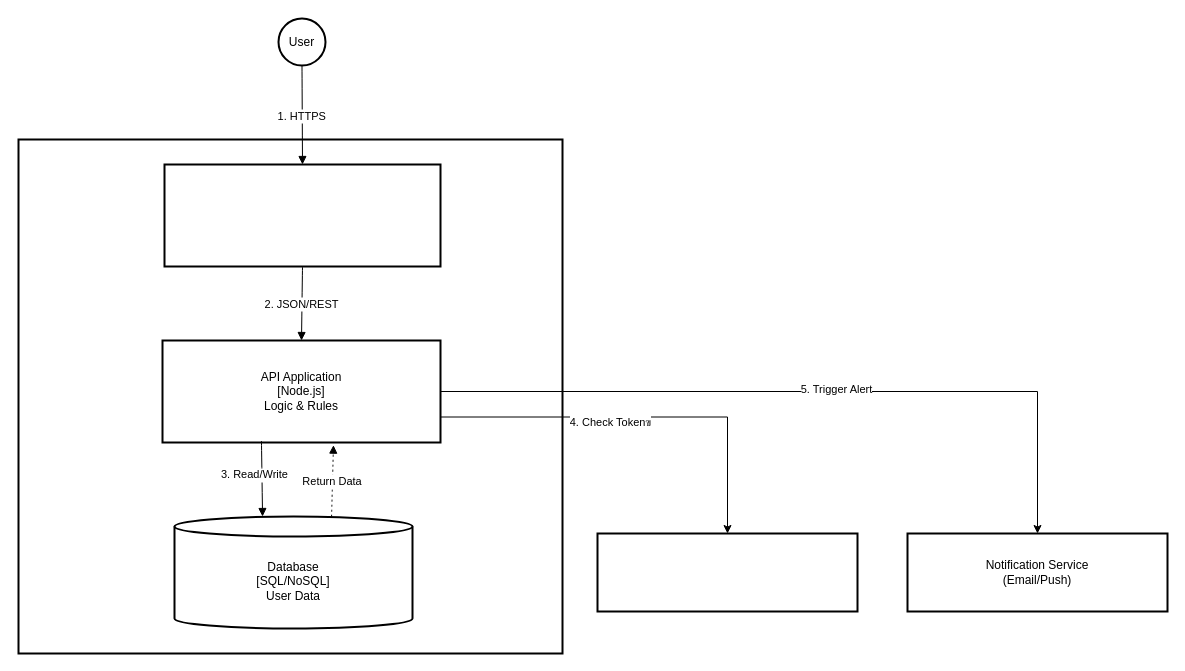
Image size: 1185x671. Some labels were removed from this diagram. Here are the shapes that lost their labels. From the top down, the centre of each, then its label:
At (302,215): "Web Application [React/Vue] UI Dashboard".
At (727,572): "Identity Provider (Google Auth)".
